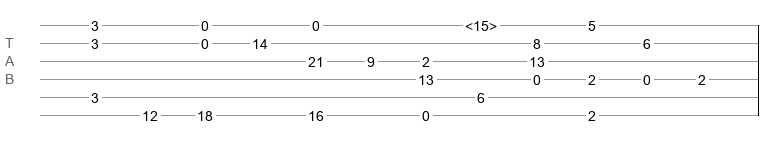0: (201, 36, 209, 46), (201, 18, 209, 28), (312, 18, 320, 28), (422, 108, 430, 118), (533, 72, 541, 82), (643, 72, 651, 82)
12: (142, 108, 158, 118)
13: (418, 72, 434, 82), (529, 54, 545, 64)
14: (252, 36, 268, 46)
16: (308, 108, 324, 118)
18: (197, 108, 213, 118)
2: (422, 54, 430, 64), (588, 72, 596, 82), (588, 108, 596, 118), (698, 72, 706, 82)
21: (308, 54, 324, 64)
3: (91, 36, 99, 46), (91, 90, 99, 100), (91, 18, 99, 28)
5: (588, 18, 596, 28)
6: (477, 90, 485, 100), (643, 36, 651, 46)
8: (533, 36, 541, 46)
9: (367, 54, 375, 64)
harmonic: (465, 18, 497, 28)
